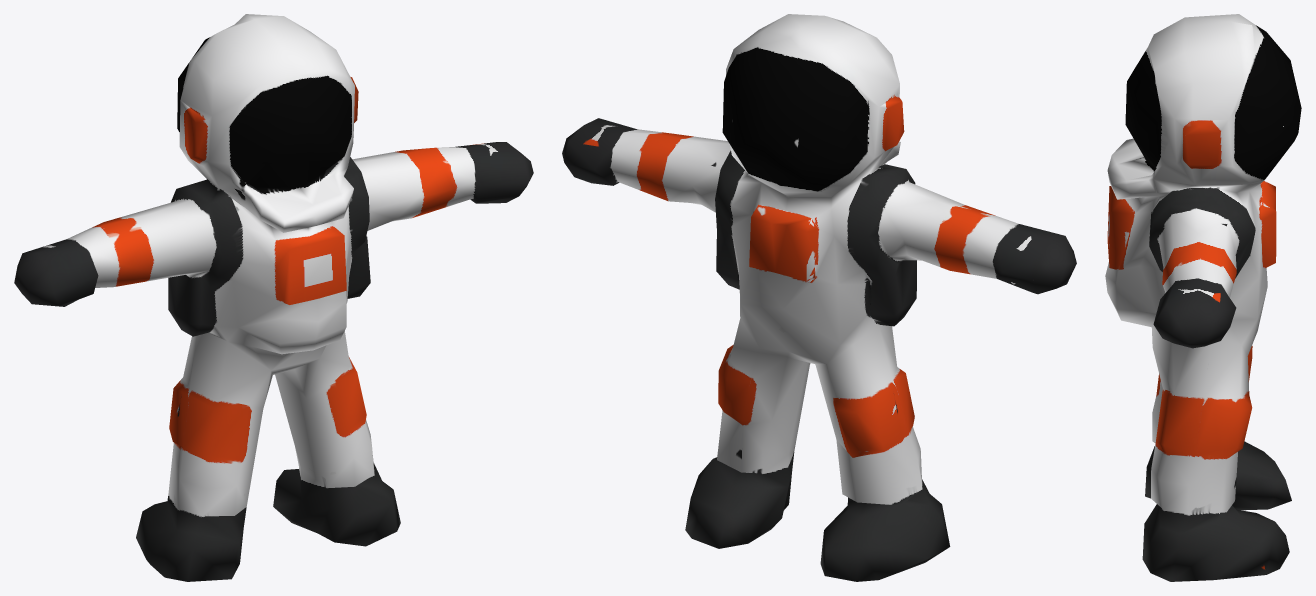
Rendered from astronaut-reference.glb.
3 renders of one model, left to right at view 1: azimuth 30°, elevation 25°; view 2: azimuth 150°, elevation 25°; view 3: azimuth 270°, elevation 25°, orthographic.
Visible parts, largest first — view 1: BakeLow; view 2: BakeLow; view 3: BakeLow.
Boxes of the visible parts, <box> form: BakeLow: <box>14,14,533,581</box>; BakeLow: <box>562,14,1076,581</box>; BakeLow: <box>1105,14,1301,581</box>.
Bounding box in the file's own units: 0.9871 × 0.9647 × 0.3384.
1 material, 1 textured.
